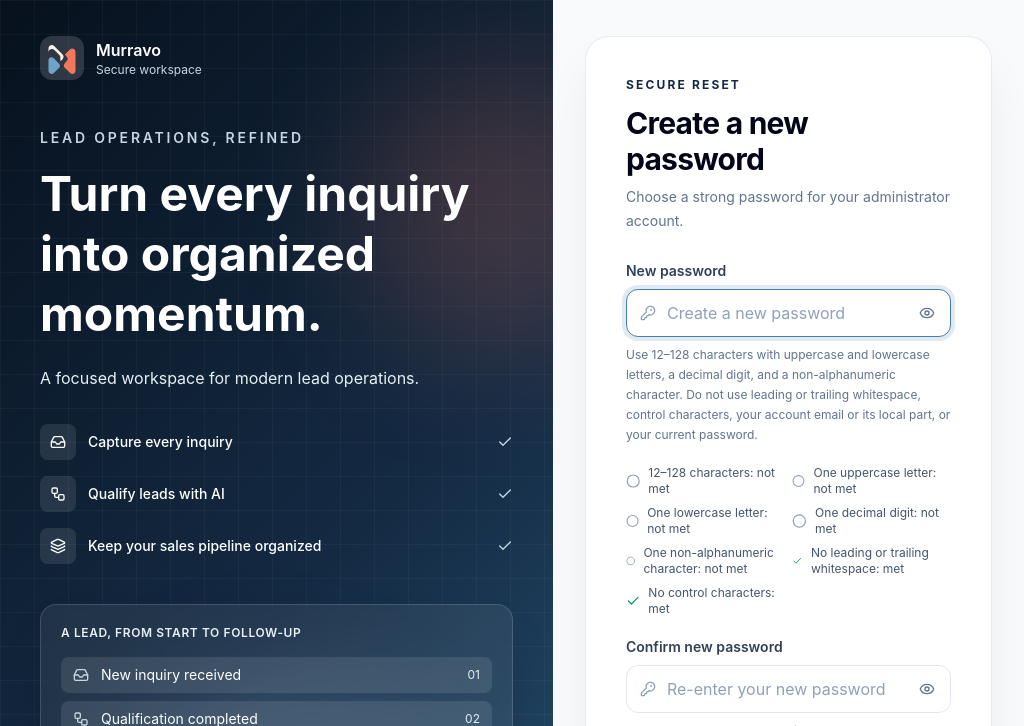
reset password token lifecycle › maps unexpected failures to a fixed safe outcome
Step 1. Type "New-password-42!" into the password field labelled "New password" → (788, 313), box left=626, top=289, right=951, bottom=337
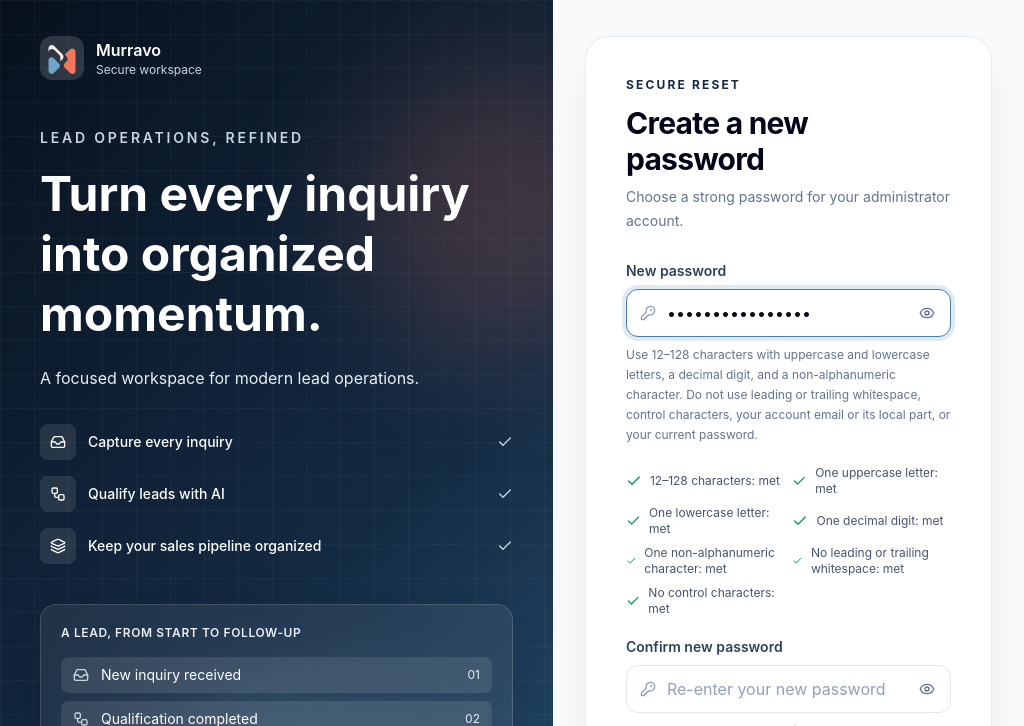
Step 2. Type "New-password-42!" into the password field labelled "Confirm new password" → (788, 689), box left=626, top=665, right=951, bottom=713
(page scrolled)
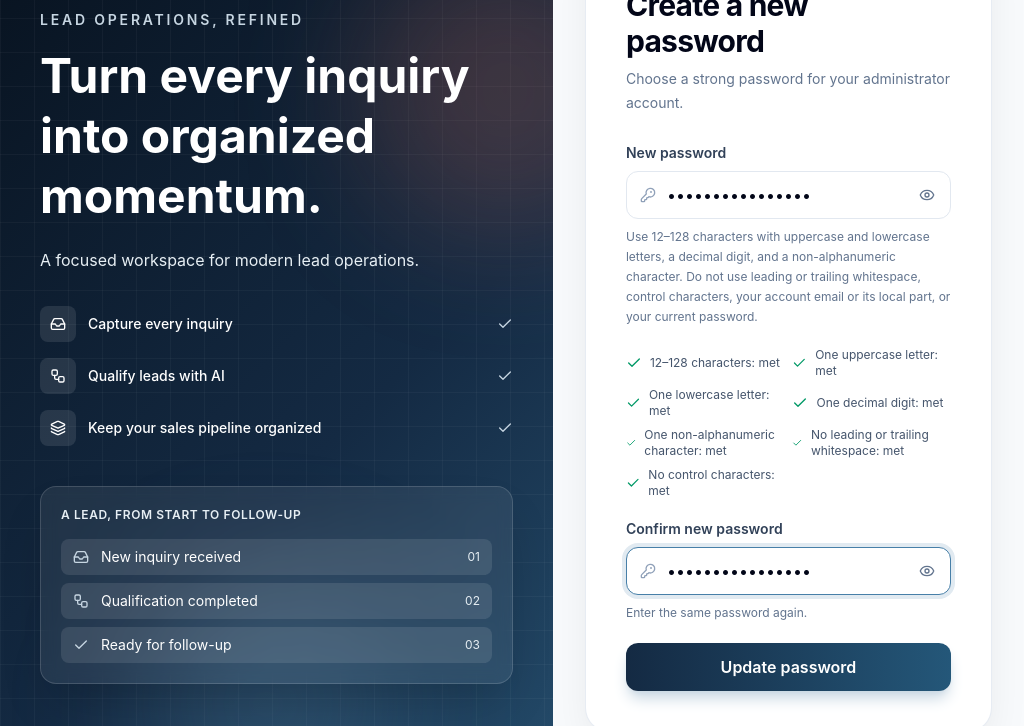
Step 3. Click the button "Update password" → (788, 667), box left=626, top=643, right=951, bottom=691
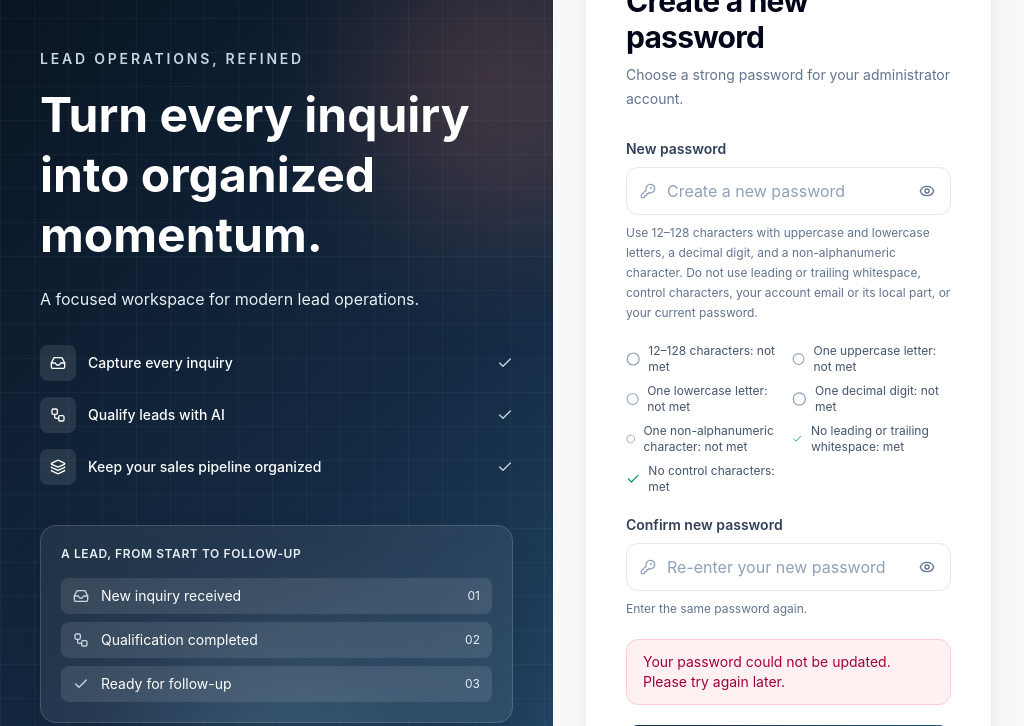
Expected: the message reads "Your password could not be updated. Please try again later.", left=643, top=653, right=891, bottom=690
